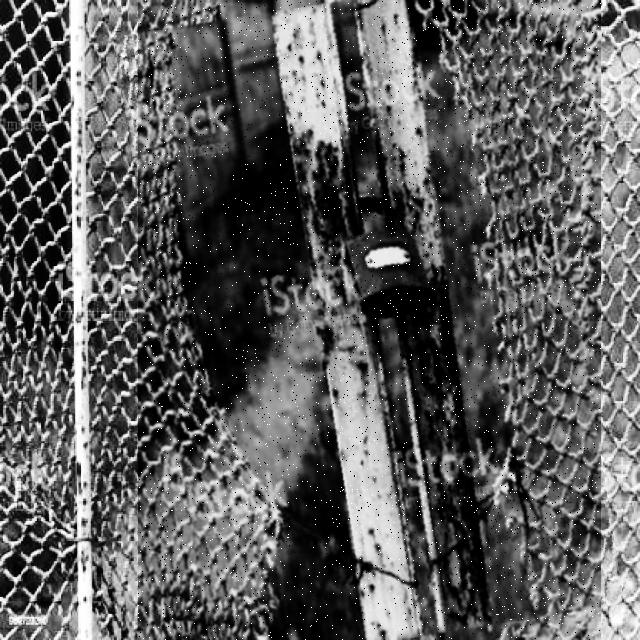anomaly-fence: (138, 0, 601, 640)
